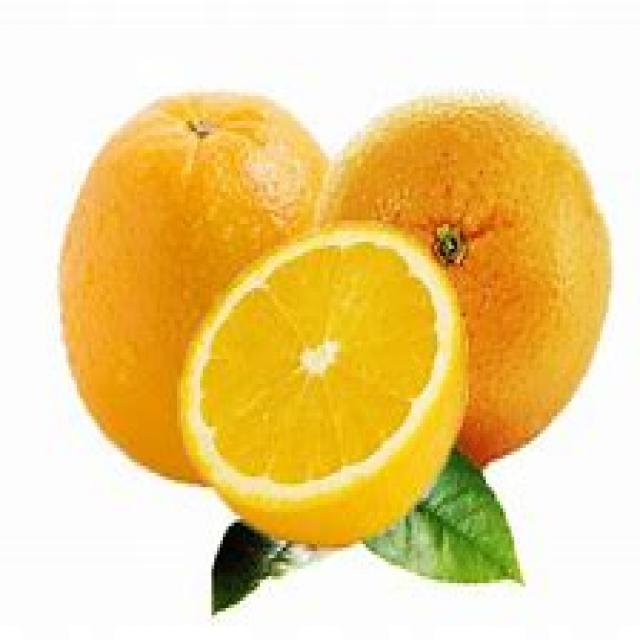Orange: (184, 228, 460, 534), (458, 74, 617, 473), (53, 68, 181, 502), (45, 80, 321, 242), (327, 89, 610, 241)
